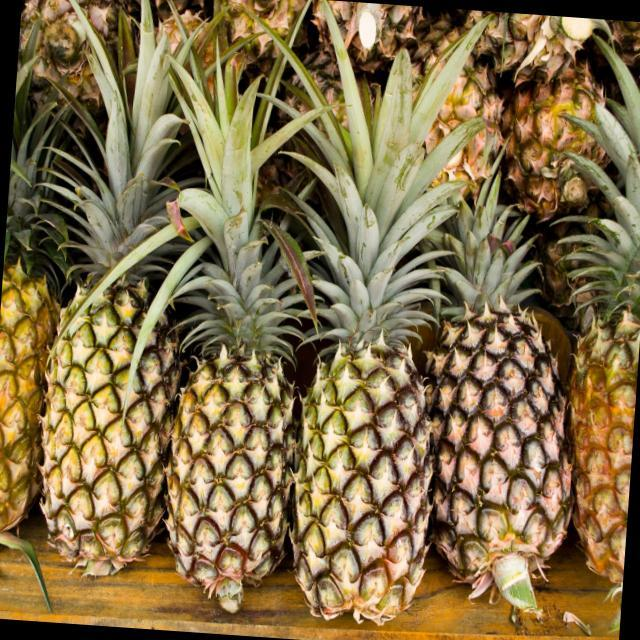PINEAPLE: (31, 24, 194, 571), (286, 116, 456, 632), (154, 100, 316, 609), (426, 133, 590, 595), (562, 118, 640, 586), (0, 123, 59, 560)
